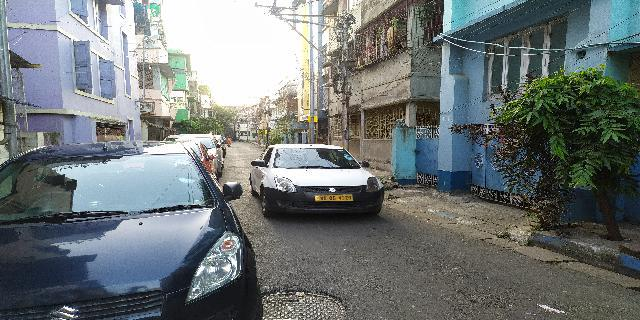Car: (1, 139, 261, 320), (247, 141, 390, 221)
